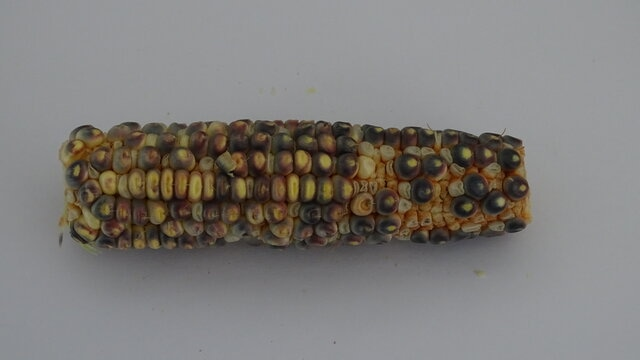corn: (160, 168, 174, 199)
